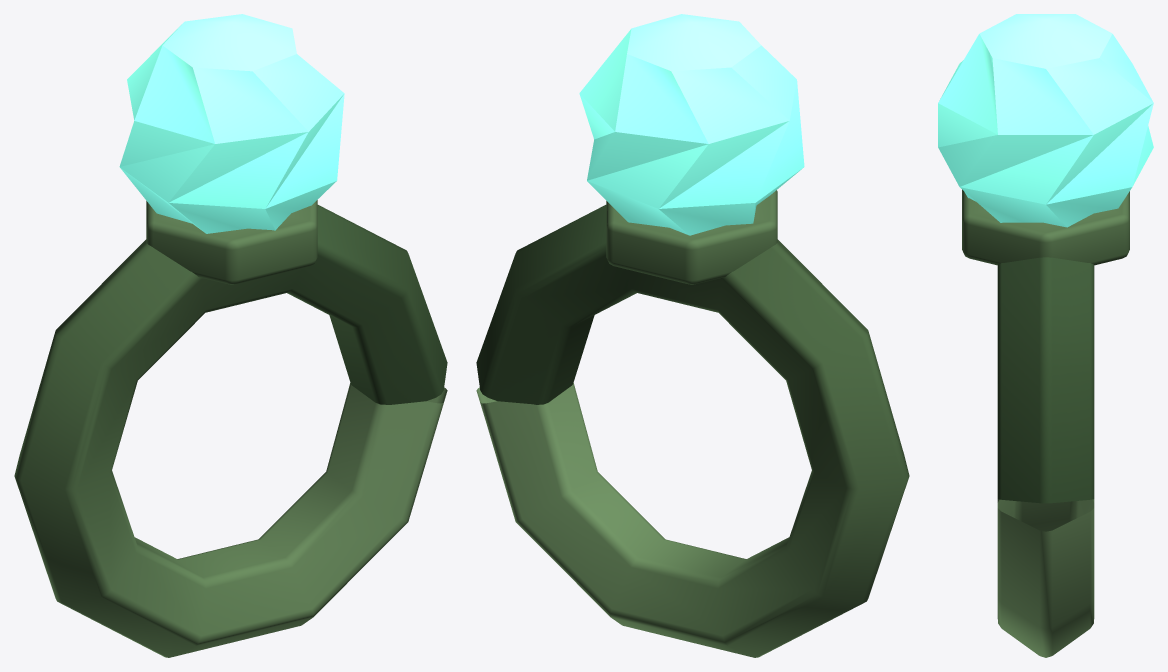
File: lg_bogpearl_ring.glb
3 renders of one model, left to right at view 1: azimuth 30°, elevation 25°; view 2: azimuth 150°, elevation 25°; view 3: azimuth 270°, elevation 25°, orthographic. The views are drawn at different scales.
Visible parts, largest first — view 1: lg_bogpearl_ring, lg_bogpearl_ring_glow; view 2: lg_bogpearl_ring, lg_bogpearl_ring_glow; view 3: lg_bogpearl_ring, lg_bogpearl_ring_glow.
Boxes of the visible parts, bbox=[...] form: lg_bogpearl_ring: bbox=[14, 200, 447, 657]; lg_bogpearl_ring_glow: bbox=[119, 14, 344, 233]; lg_bogpearl_ring: bbox=[476, 190, 909, 657]; lg_bogpearl_ring_glow: bbox=[579, 14, 804, 235]; lg_bogpearl_ring: bbox=[962, 189, 1129, 657]; lg_bogpearl_ring_glow: bbox=[938, 14, 1153, 227].
Bounding box in the file's own units: 0.5019 × 0.6899 × 0.2225.
